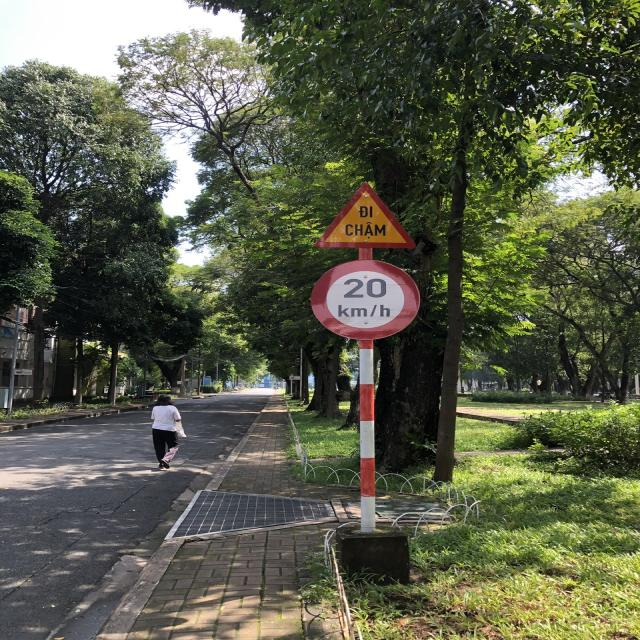Bien bao di cham: (306, 180, 422, 253)
Bien bao toc do toi da cho phep: (307, 256, 428, 347)
